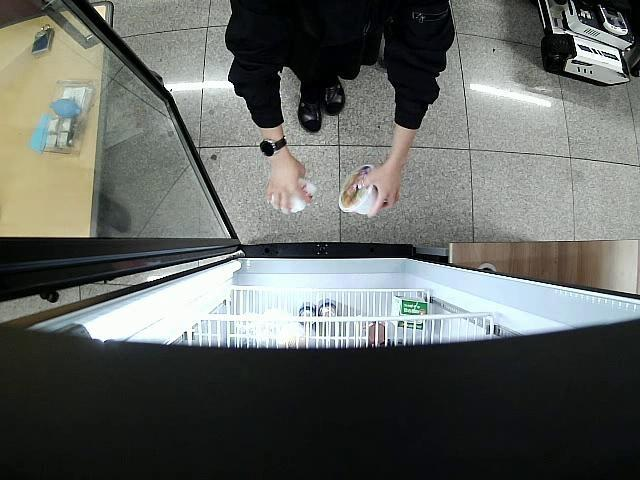09_yukGaeJang: (338, 164, 380, 217), (270, 178, 317, 215)
